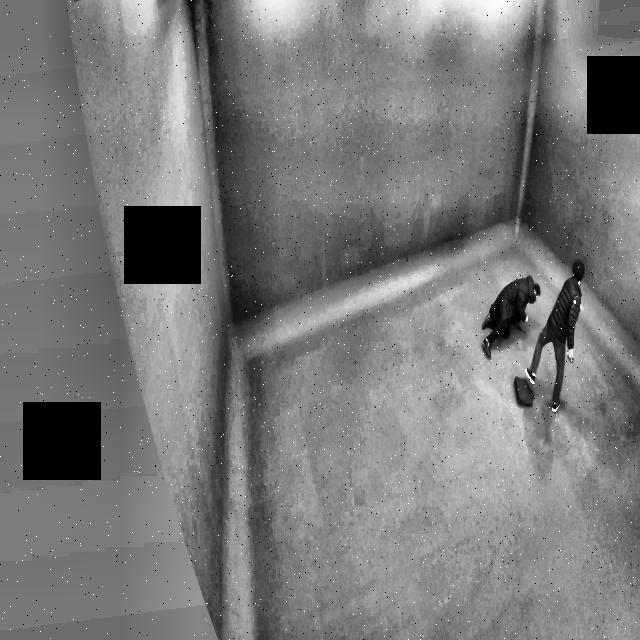assult: (472, 231, 598, 412)
